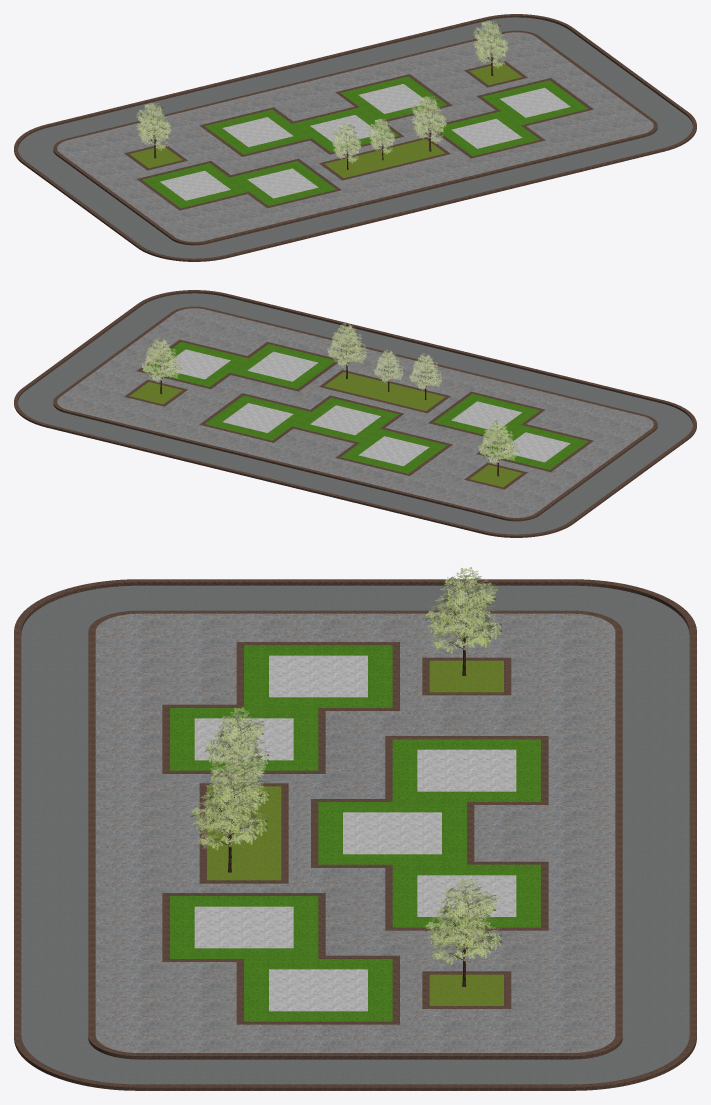
3 renders of one model, top to bottom at view 1: azimuth 30°, elevation 25°; view 2: azimuth 150°, elevation 25°; view 3: azimuth 270°, elevation 25°, orthographic. The views are drawn at different scales.
Parts seen in each view (by area): view 1: 7) Model - 7.dwg; view 2: 7) Model - 7.dwg; view 3: 7) Model - 7.dwg.
Part boxes in pixels (left/top/right/bottom): 7) Model - 7.dwg: left=14, top=14, right=696, bottom=261; 7) Model - 7.dwg: left=14, top=290, right=696, bottom=537; 7) Model - 7.dwg: left=14, top=579, right=696, bottom=1090.
Bounding box in the file's own units: 48.6 × 4.74 × 27.6.
Materials: 633 (633 with a texture image).
